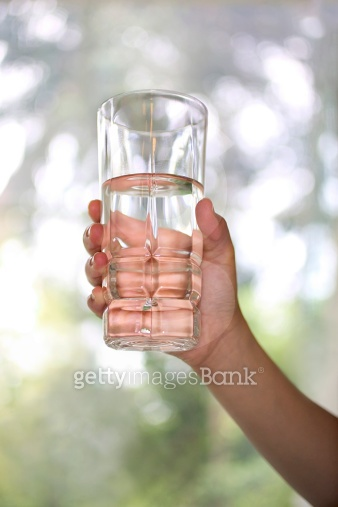glass of water: (94, 104, 208, 353)
